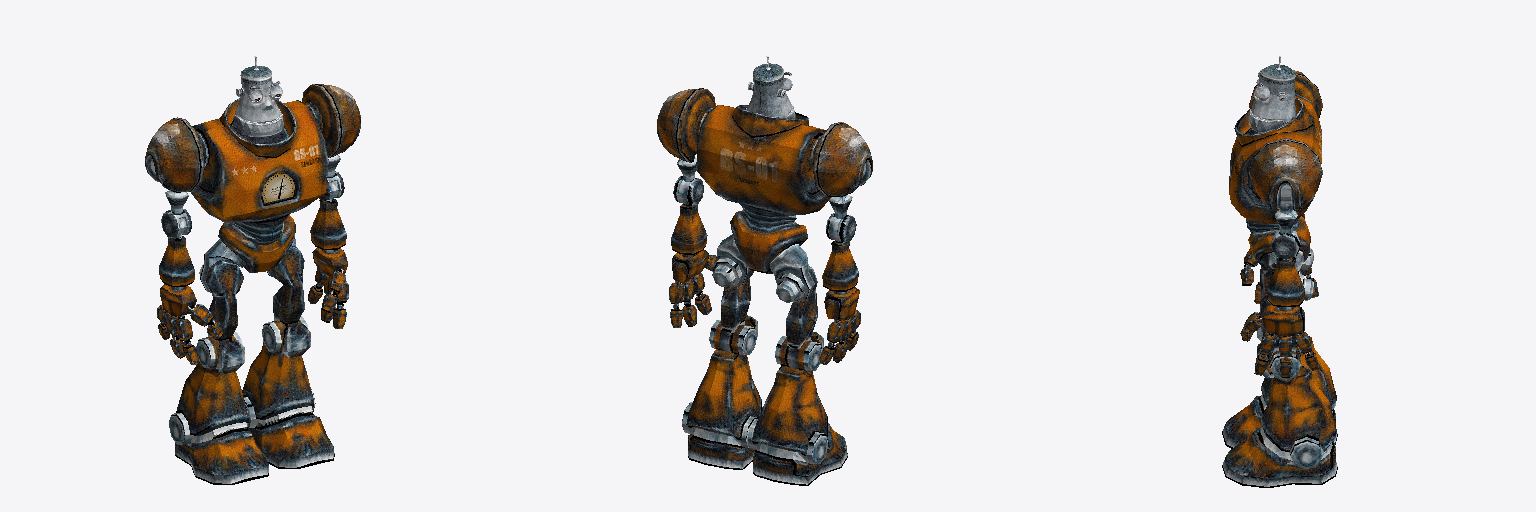
The picture shows the model from 3 angles: view 1: azimuth 30°, elevation 25°; view 2: azimuth 150°, elevation 25°; view 3: azimuth 270°, elevation 25°; orthographic projection.
Parts seen in each view (by area): view 1: body; view 2: body; view 3: body.
Boxes of the visible parts, x1=… form: body: x1=145, y1=56, x2=360, y2=484; body: x1=657, y1=56, x2=872, y2=485; body: x1=1222, y1=56, x2=1337, y2=487.
Bounding box in the file's own units: 3.34 × 6.22 × 1.63.
1 materials, 1 textured.